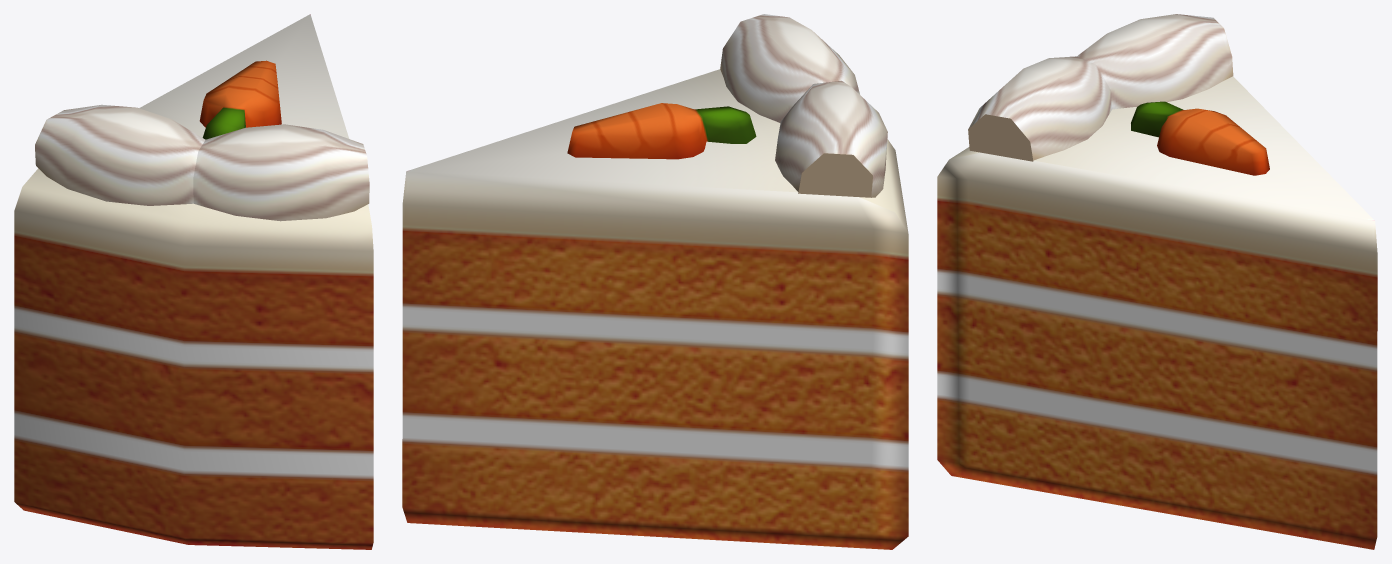
File: 008-Cake07.FBX
3 renders of one model, left to right at view 1: azimuth 30°, elevation 25°; view 2: azimuth 150°, elevation 25°; view 3: azimuth 270°, elevation 25°, orthographic. The views are drawn at different scales.
Visible parts, largest first — view 1: 008-Cake07; view 2: 008-Cake07; view 3: 008-Cake07.
Boxes of the visible parts, x1,y1,x2,y2 form: 008-Cake07: [14, 14, 373, 549]; 008-Cake07: [402, 14, 908, 549]; 008-Cake07: [937, 14, 1377, 549].
Bounding box in the file's own units: 15.17 × 14.53 × 15.15.
